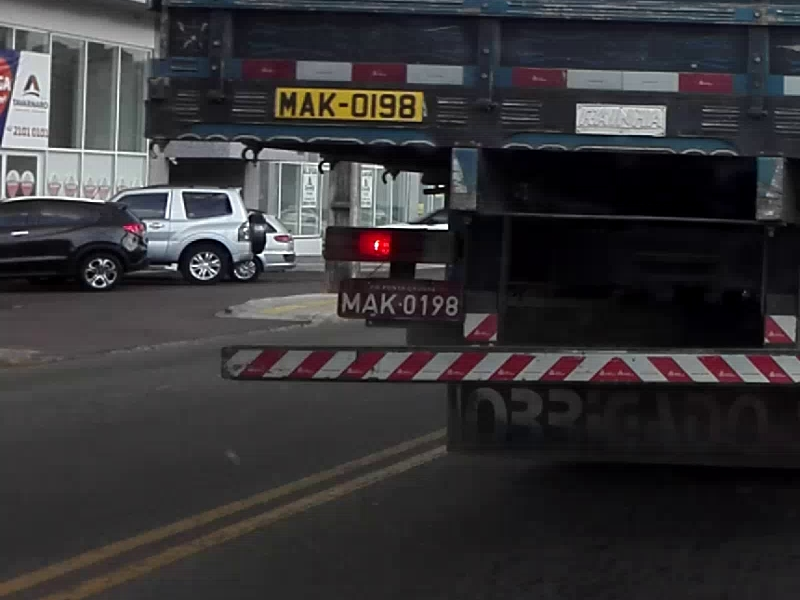placa: (337, 278, 463, 322)
